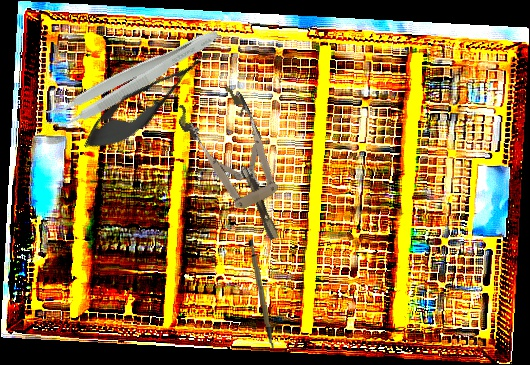Micro Scissor: (74, 39, 219, 164)
Scalpel Handle: (247, 238, 274, 353)
Speculum: (172, 79, 305, 254)
Tissue Forceps: (37, 16, 224, 140)
